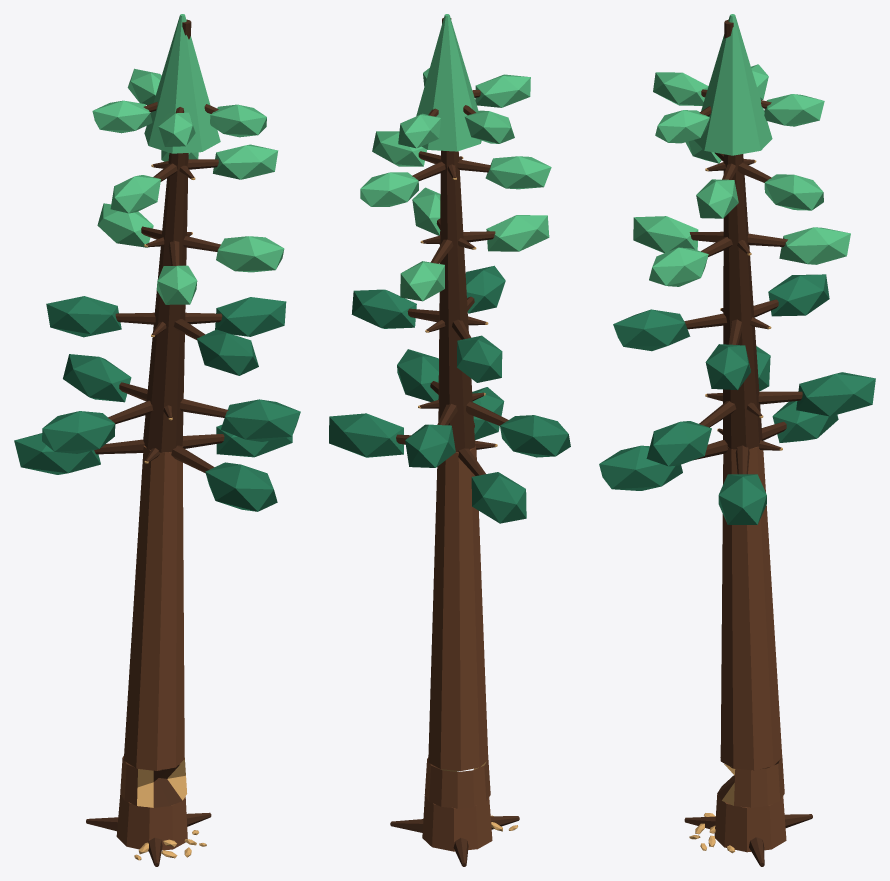
Rendered from harvest_tree_damaged_c.glb.
3 renders of one model, left to right at view 1: azimuth 30°, elevation 25°; view 2: azimuth 150°, elevation 25°; view 3: azimuth 270°, elevation 25°, orthographic. The views are drawn at different scales.
Visible parts, largest first — view 1: Trunk_Above_Notch.002, Trunk_Upper.003, Leader_Needles.003, Trunk_Base.002, Needles_2_5.003, Needles_1_5.003, Axe_Notch.002, Needles_2_3.003, Needles_3_2.003, Needles_2_2.003, Needles_3_5.003, Needles_4_4.003 (+12 smaller); view 2: Trunk_Above_Notch.002, Trunk_Upper.003, Leader_Needles.003, Trunk_Base.002, Needles_1_1.003, Axe_Notch.002, Needles_2_3.003, Needles_1_3.003, Needles_3_5.003, Needles_4_3.003, Needles_2_2.003, Needles_5_2.003 (+11 smaller); view 3: Trunk_Above_Notch.002, Trunk_Upper.003, Leader_Needles.003, Trunk_Base.002, Needles_2_2.003, Needles_1_5.003, Needles_3_4.003, Axe_Notch.002, Needles_2_5.003, Needles_1_1.003, Needles_4_1.003, Needles_3_2.003 (+9 smaller).
Boxes of the visible parts, x1,y1,x2,y2 form: Trunk_Above_Notch.002: [123, 445, 184, 770]; Trunk_Upper.003: [143, 19, 191, 452]; Leader_Needles.003: [144, 14, 220, 153]; Trunk_Base.002: [116, 794, 187, 851]; Needles_2_5.003: [221, 399, 300, 441]; Needles_1_5.003: [205, 462, 277, 511]; Axe_Notch.002: [120, 756, 187, 807]; Needles_2_3.003: [42, 411, 115, 453]; Needles_3_2.003: [46, 296, 121, 337]; Needles_2_2.003: [63, 354, 131, 402]; Needles_3_5.003: [215, 297, 286, 336]; Needles_4_4.003: [216, 236, 284, 272]; Trunk_Above_Notch.002: [428, 446, 488, 770]; Trunk_Upper.003: [438, 18, 475, 451]; Leader_Needles.003: [416, 14, 481, 151]; Trunk_Base.002: [422, 795, 492, 851]; Needles_1_1.003: [329, 413, 403, 457]; Axe_Notch.002: [424, 757, 490, 808]; Needles_2_3.003: [500, 415, 570, 457]; Needles_1_3.003: [471, 472, 526, 523]; Needles_3_5.003: [351, 289, 416, 328]; Needles_4_3.003: [486, 215, 549, 251]; Needles_2_2.003: [405, 424, 455, 467]; Needles_5_2.003: [485, 156, 551, 189]; Trunk_Above_Notch.002: [720, 446, 782, 770]; Trunk_Upper.003: [723, 19, 762, 449]; Leader_Needles.003: [694, 14, 772, 155]; Trunk_Base.002: [714, 794, 786, 852]; Needles_2_2.003: [796, 372, 875, 416]; Needles_1_5.003: [599, 445, 682, 490]; Needles_3_4.003: [613, 309, 690, 351]; Axe_Notch.002: [717, 757, 784, 807]; Needles_2_5.003: [646, 421, 711, 466]; Needles_1_1.003: [718, 474, 766, 524]; Needles_4_1.003: [779, 227, 850, 264]; Needles_3_2.003: [768, 274, 829, 316].
Bounding box in the file's own units: 4.85 × 15.47 × 4.66.
